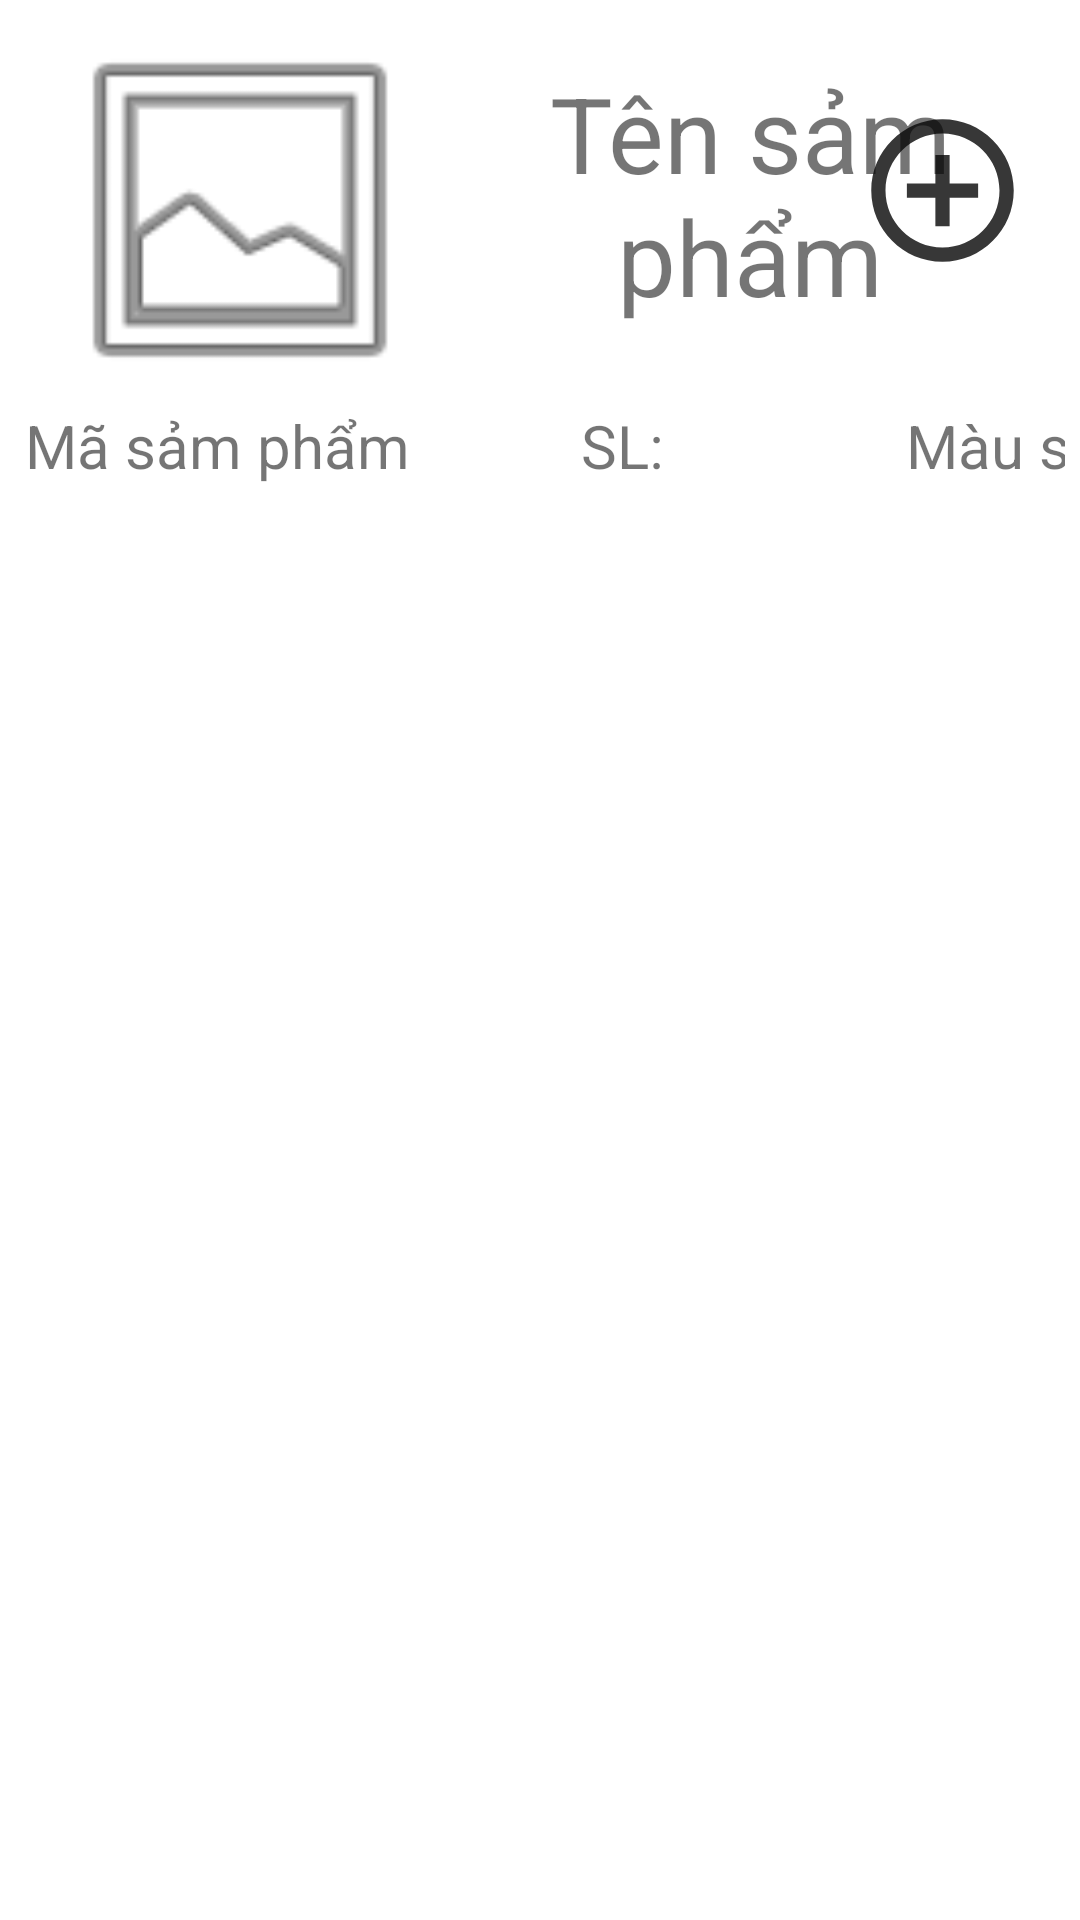

Where to tap for icons on this 1080px x 1920px app screen, as (x,y):
gallery: (240,210)
plus: (940,189)
